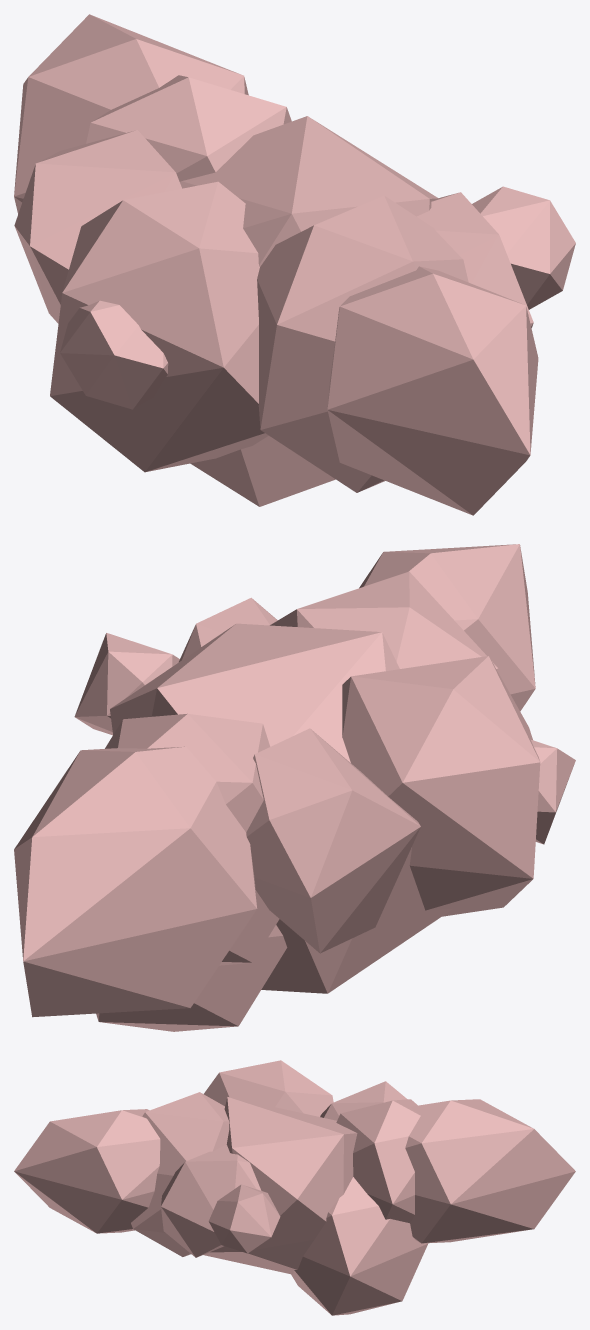
Rendered from SpiritCloud00.fbx.
3 renders of one model, top to bottom at view 1: azimuth 30°, elevation 25°; view 2: azimuth 150°, elevation 25°; view 3: azimuth 270°, elevation 25°, orthographic. The views are drawn at different scales.
Parts seen in each view (by area): view 1: SpiritCloud; view 2: SpiritCloud; view 3: SpiritCloud.
Boxes of the visible parts, left/top/right/bottom form: SpiritCloud: left=14, top=14, right=575, bottom=515; SpiritCloud: left=14, top=544, right=575, bottom=1031; SpiritCloud: left=14, top=1060, right=575, bottom=1315.
Size of the model in its own units: 4.01 by 2.82 by 7.19.
